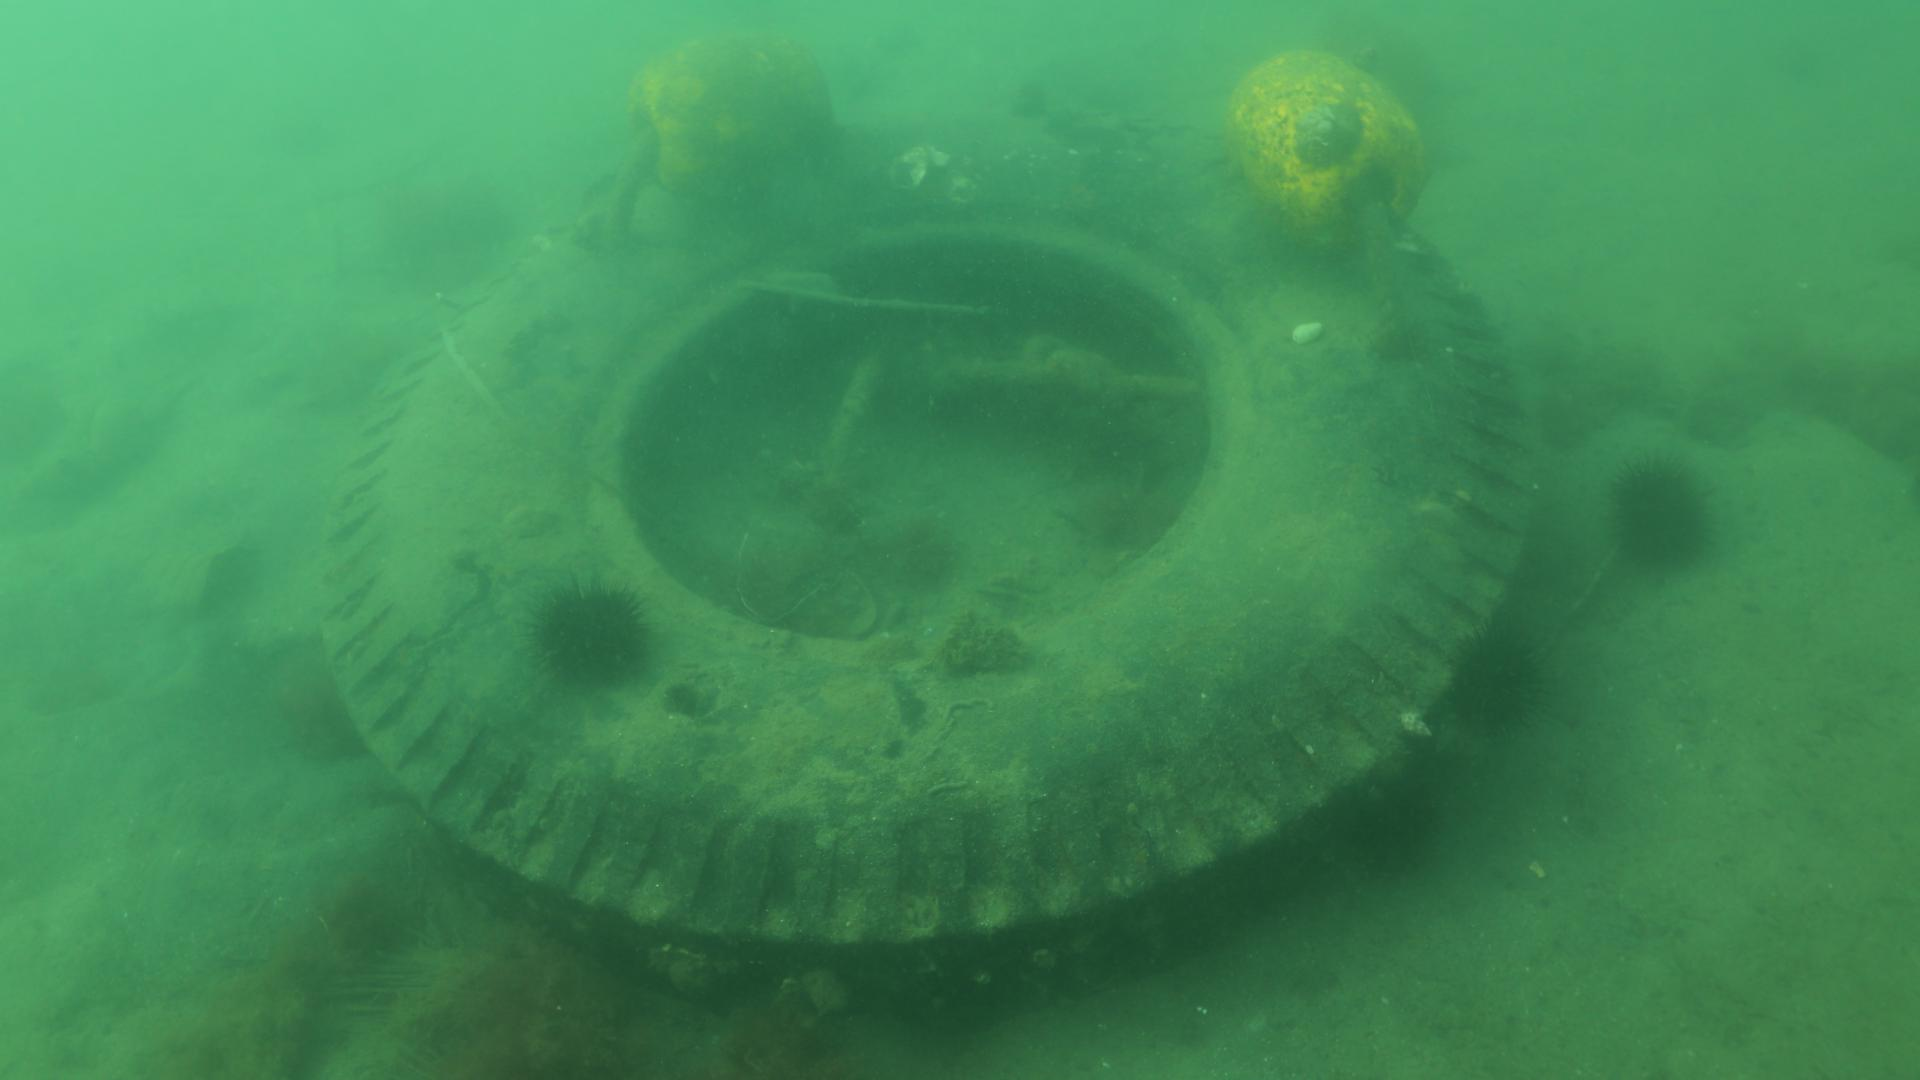tire: (322, 113, 1538, 1025)
